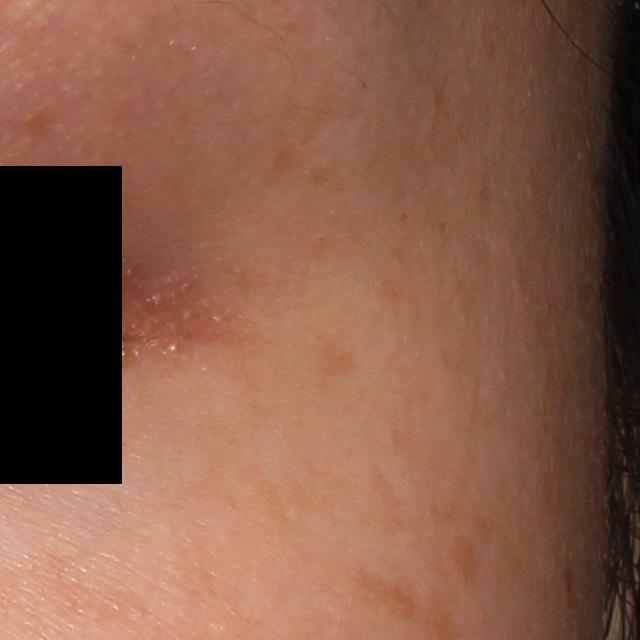melasma: (223, 455, 363, 543), (343, 562, 421, 625), (364, 457, 409, 530), (311, 328, 366, 387), (374, 272, 429, 325), (441, 527, 483, 587), (268, 145, 314, 183), (14, 106, 57, 142), (301, 165, 340, 189)
